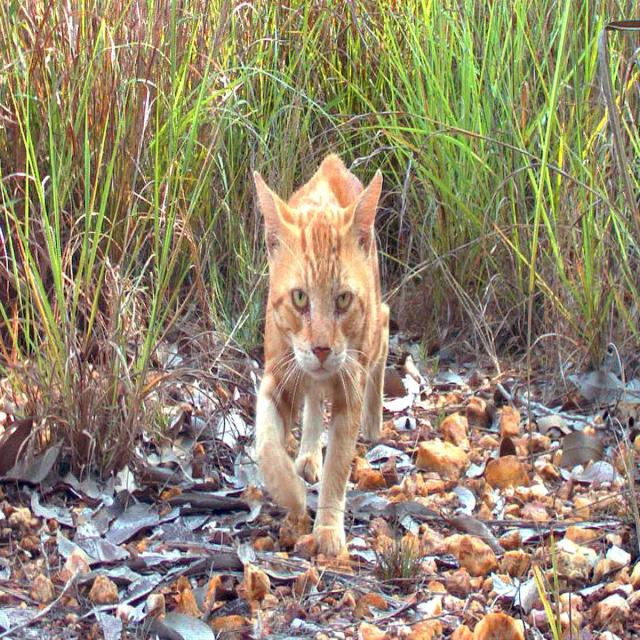cat: (256, 154, 389, 556)
